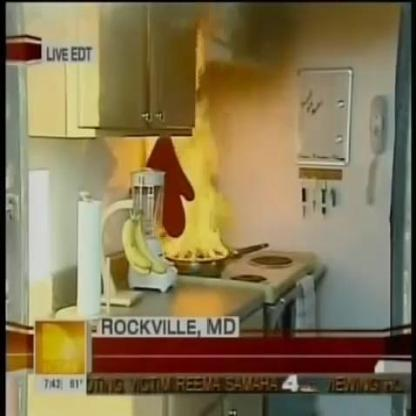fire: (162, 124, 240, 266)
